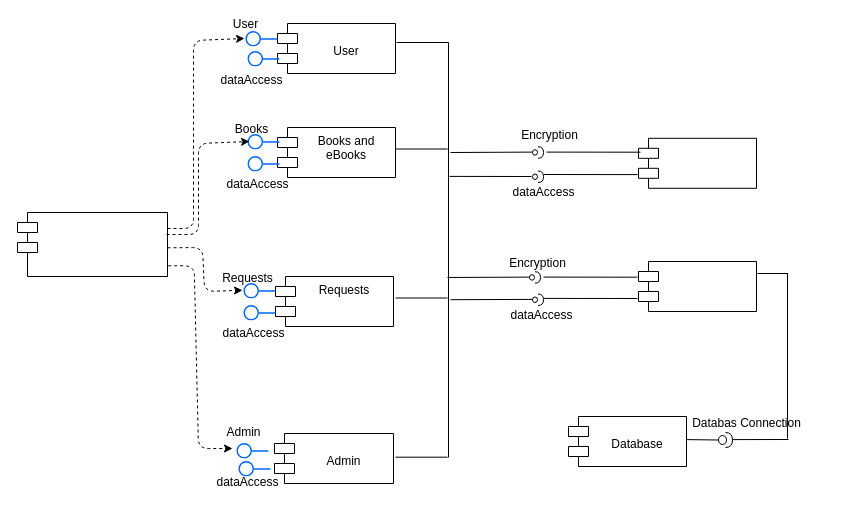
This 848x506 diagram has some shape labels left out. Each missing label, with the centre of its shape:
"Library Management System" goes at (92,244).
"Persistance" goes at (697,286).
"Security" goes at (697,162).
